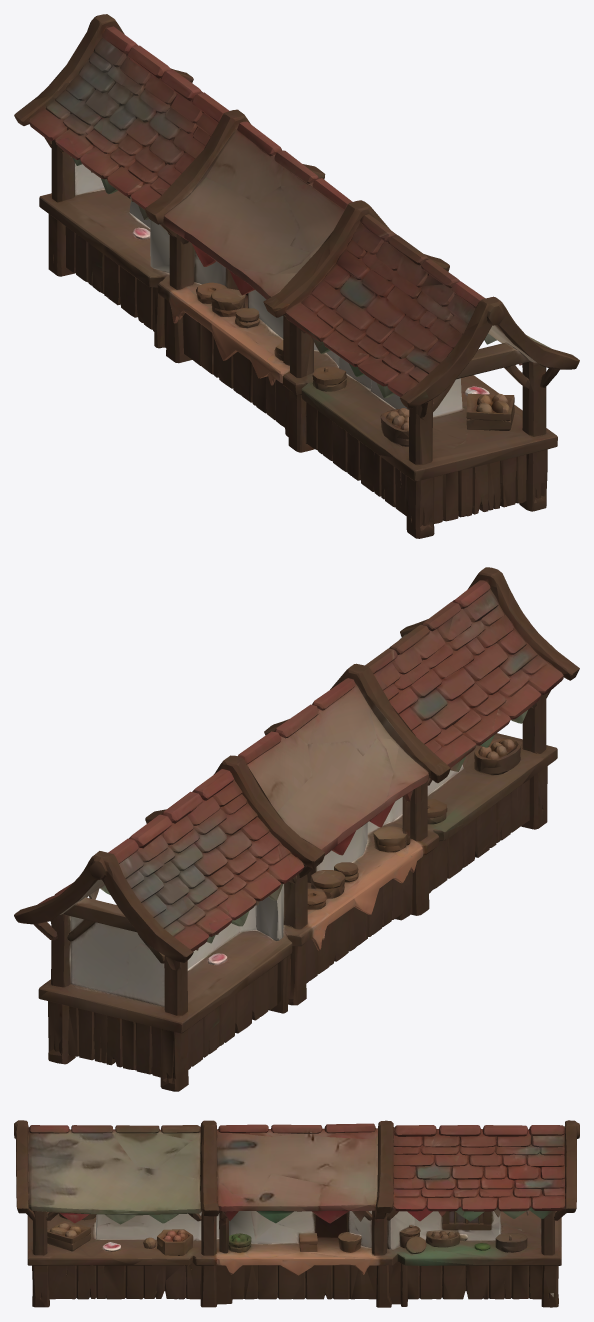
3 renders of one model, top to bottom at view 1: azimuth 30°, elevation 25°; view 2: azimuth 150°, elevation 25°; view 3: azimuth 270°, elevation 25°, orthographic. The views are drawn at different scales.
Parts seen in each view (by area): view 1: model; view 2: model; view 3: model.
Part boxes in pixels (x1,y1,x2,y2): model: (14, 14, 579, 538); model: (14, 567, 579, 1091); model: (14, 1120, 579, 1307).
Bounding box in the file's own units: 0.4893 × 0.6023 × 1.9.
Materials: 1 (1 with a texture image).
